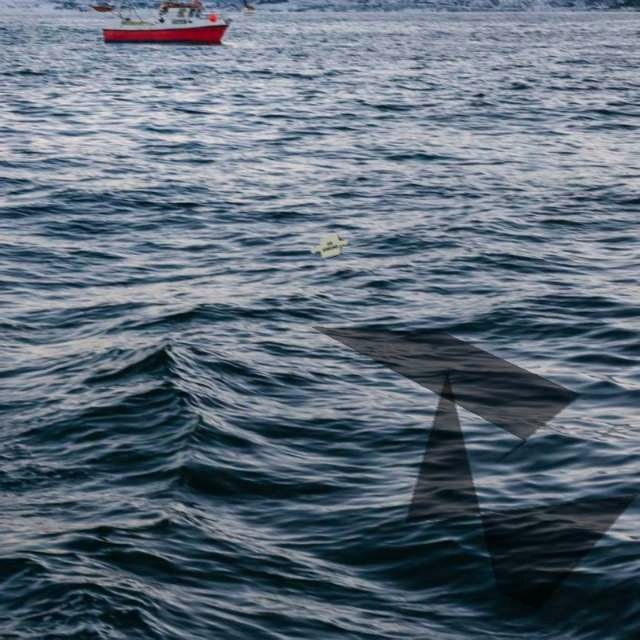GO_AROUND: (309, 233, 350, 260)
